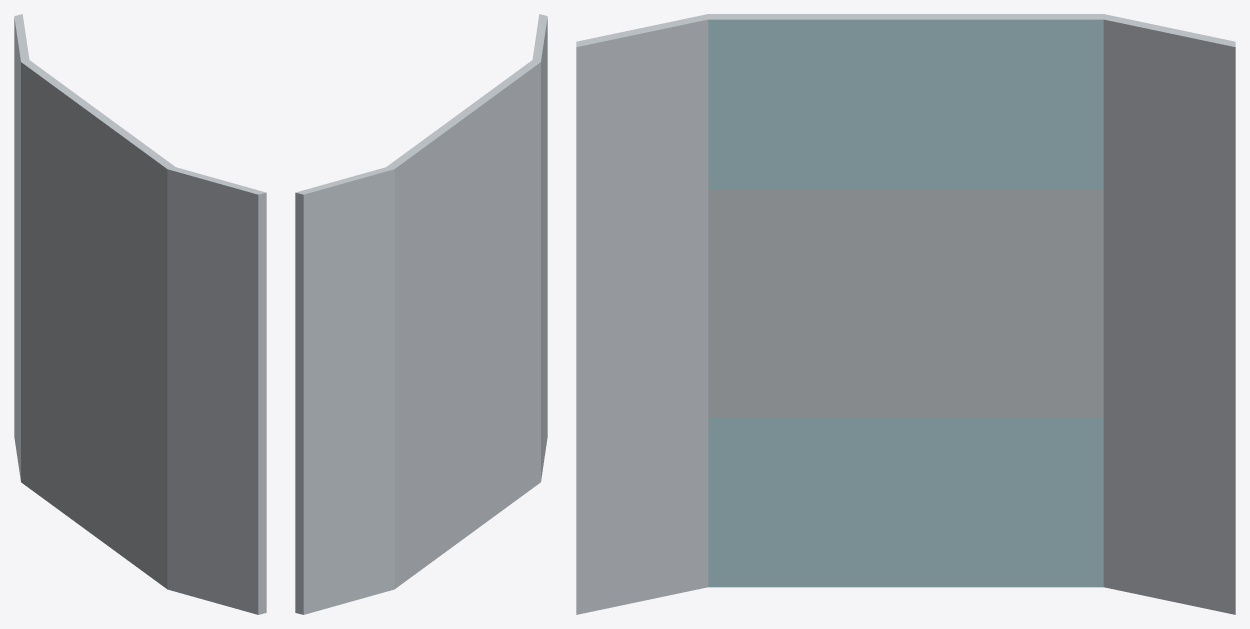
The model's file is wall-03b.fbx.
3 renders of one model, left to right at view 1: azimuth 30°, elevation 25°; view 2: azimuth 150°, elevation 25°; view 3: azimuth 270°, elevation 25°, orthographic. The views are drawn at different scales.
Visible parts, largest first — view 1: wall-03b; view 2: wall-03b; view 3: wall-03b.
Part boxes in pixels (<box>): wall-03b: <box>14,14,266,614</box>; wall-03b: <box>295,14,547,614</box>; wall-03b: <box>576,14,1235,614</box>.
Size of the model in its own units: 11.94 by 95 by 100.
